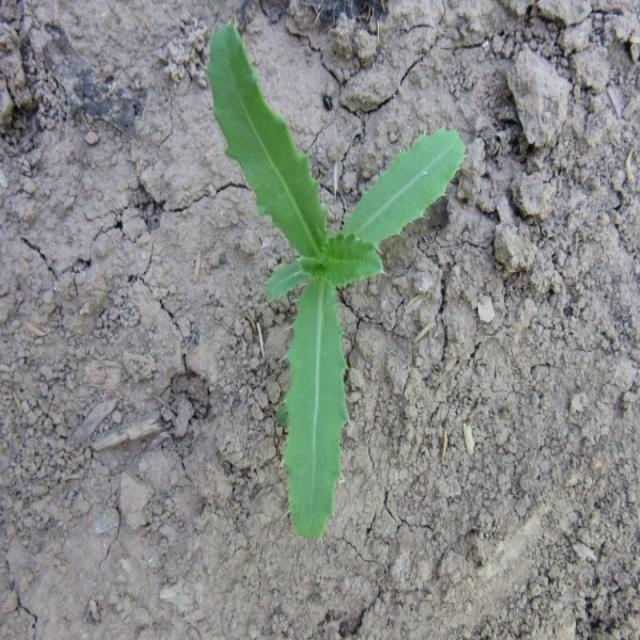field_thistle: (190, 33, 472, 528)
